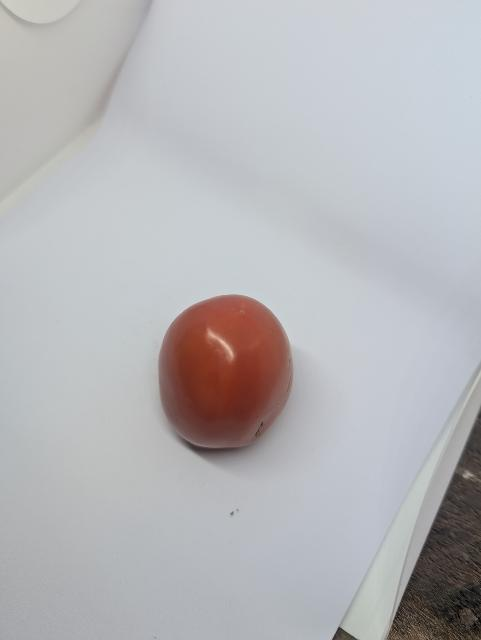red: (142, 281, 321, 454)
